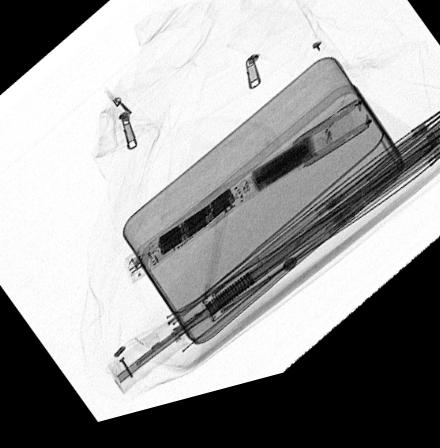Baton: (121, 116, 373, 291)
